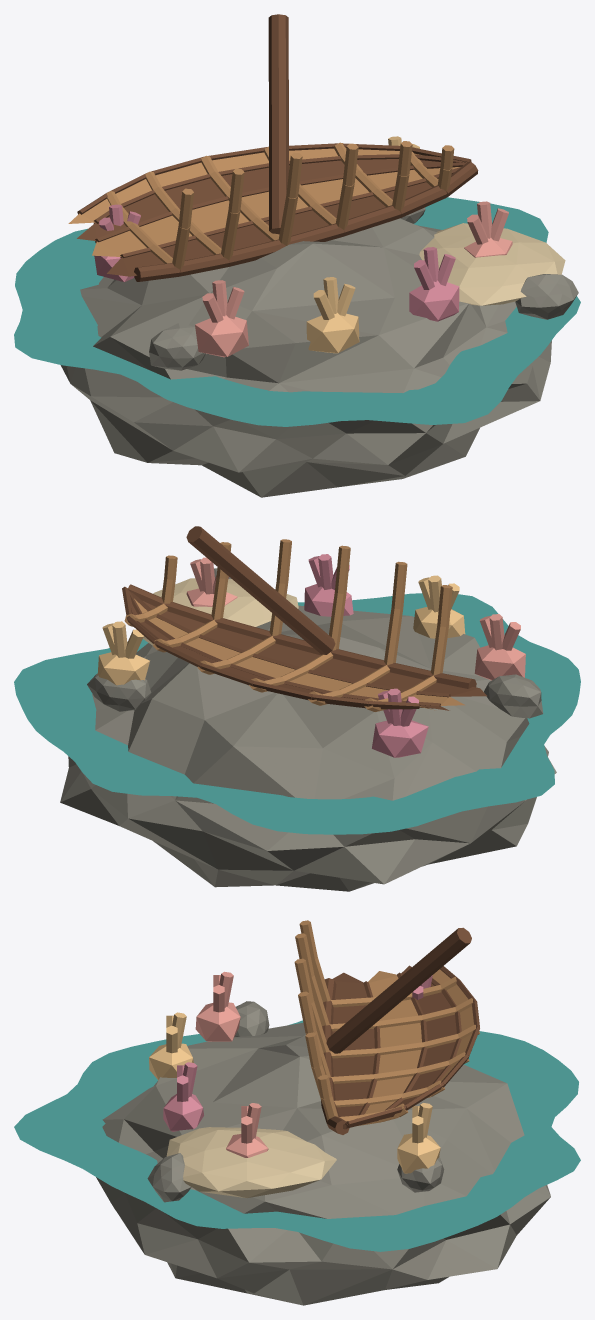
Rendered from diorama-fifth.glb.
The picture shows the model from 3 angles, top to bottom: view 1: azimuth 30°, elevation 25°; view 2: azimuth 150°, elevation 25°; view 3: azimuth 270°, elevation 25°; orthographic projection. The views are drawn at different scales.
Parts seen in each view (by area): view 1: Island | lumpy rock raft, Ocean | irregular shore skirt, Sand | small beach, Wreck | curved hull plank.001, Wreck | snapped mast, Wreck | curved hull plank.002, Wreck | curved hull plank, Wreck | curved hull plank.003, Rock | loose shore stone.002, Rock | loose shore stone.001, Reef | coral clump, Reef | coral clump.001 (+8 smaller); view 2: Island | lumpy rock raft, Ocean | irregular shore skirt, Wreck | snapped mast, Wreck | curved hull plank, Wreck | curved hull plank.001, Sand | small beach, Rock | loose shore stone.001, Reef | coral clump.005, Rock | loose shore stone, Reef | coral clump, Reef | coral clump.004, Reef | coral clump.001 (+14 smaller); view 3: Island | lumpy rock raft, Ocean | irregular shore skirt, Sand | small beach, Wreck | snapped mast, Wreck | curved hull plank.001, Wreck | curved hull plank, Wreck | curved hull plank.002, Rock | loose shore stone.002, Reef | coral clump, Reef | coral clump.004, Reef | coral clump.002, Reef | coral clump.001 (+5 smaller).
Part boxes in pixels (left/top/right/bottom): Island | lumpy rock raft: left=60, top=218, right=551, bottom=497; Ocean | irregular shore skirt: left=14, top=197, right=580, bottom=426; Sand | small beach: left=419, top=223, right=565, bottom=305; Wreck | curved hull plank.001: left=99, top=167, right=459, bottom=255; Wreck | snapped mast: left=268, top=14, right=288, bottom=234; Wreck | curved hull plank.002: left=95, top=159, right=440, bottom=238; Wreck | curved hull plank: left=122, top=178, right=438, bottom=276; Wreck | curved hull plank.003: left=82, top=148, right=421, bottom=221; Rock | loose shore stone.002: left=515, top=274, right=578, bottom=319; Rock | loose shore stone.001: left=149, top=323, right=205, bottom=370; Reef | coral clump: left=195, top=315, right=248, bottom=357; Reef | coral clump.001: left=306, top=312, right=359, bottom=353; Island | lumpy rock raft: left=60, top=605, right=556, bottom=891; Ocean | irregular shore skirt: left=14, top=593, right=580, bottom=834; Wreck | snapped mast: left=186, top=526, right=335, bottom=654; Wreck | curved hull plank: left=143, top=601, right=479, bottom=696; Wreck | curved hull plank.001: left=134, top=598, right=448, bottom=704; Sand | small beach: left=143, top=578, right=298, bottom=645; Rock | loose shore stone.001: left=484, top=674, right=543, bottom=718; Reef | coral clump.005: left=372, top=720, right=428, bottom=757; Rock | loose shore stone: left=87, top=673, right=151, bottom=711; Reef | coral clump: left=474, top=645, right=525, bottom=680; Reef | coral clump.004: left=97, top=652, right=149, bottom=685; Reef | coral clump.001: left=413, top=607, right=465, bottom=638; Island | lumpy rock raft: left=96, top=1023, right=550, bottom=1305; Ocean | irregular shore skirt: left=14, top=1020, right=580, bottom=1251; Sand | small beach: left=166, top=1127, right=336, bottom=1198; Wreck | snapped mast: left=326, top=927, right=471, bottom=1053; Wreck | curved hull plank.001: left=365, top=976, right=421, bottom=1114; Wreck | curved hull plank: left=332, top=981, right=374, bottom=1116; Wreck | curved hull plank.002: left=394, top=983, right=456, bottom=1107; Rock | loose shore stone.002: left=147, top=1153, right=191, bottom=1202; Reef | coral clump: left=195, top=1002, right=240, bottom=1041; Reef | coral clump.004: left=397, top=1133, right=440, bottom=1173; Reef | coral clump.002: left=163, top=1094, right=203, bottom=1131; Reef | coral clump.001: left=149, top=1043, right=193, bottom=1080.
Bounding box in the file's own units: 0.2731 × 0.187 × 0.2651.
